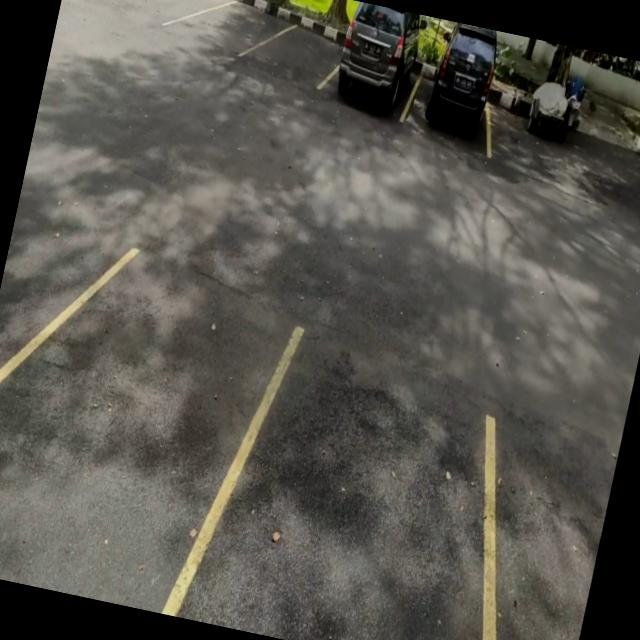car: (320, 3, 428, 125), (404, 31, 511, 151)
free: (0, 217, 286, 619), (196, 315, 538, 640), (253, 6, 344, 95), (186, 0, 277, 66), (111, 0, 205, 36)
